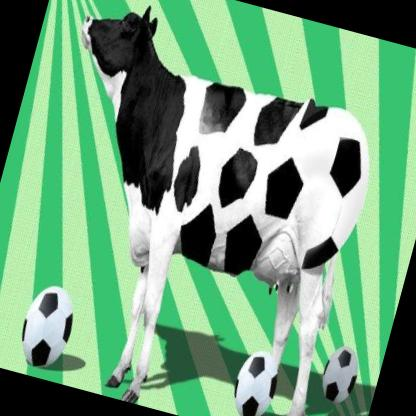ball: (10, 274, 84, 378), (224, 342, 285, 416), (314, 338, 366, 412)
